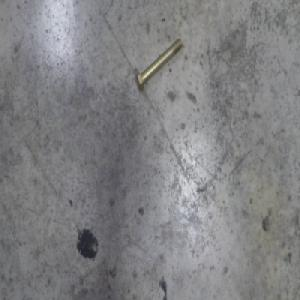Bolt: (133, 38, 183, 93)
